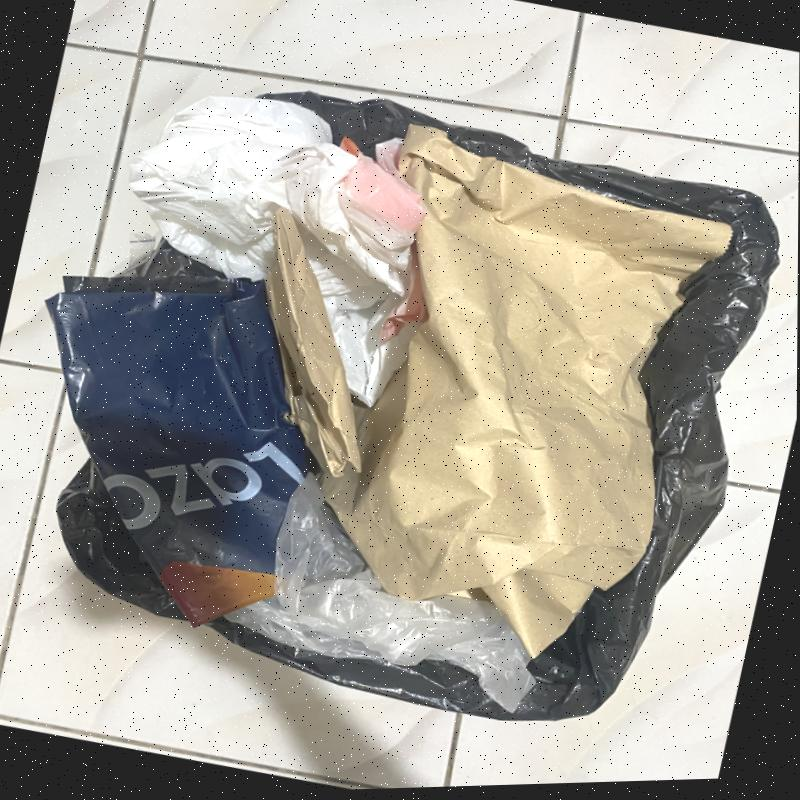paper: (321, 124, 733, 660), (263, 207, 360, 482)
plastic bag: (46, 275, 327, 634), (128, 97, 429, 405), (228, 474, 534, 711)
